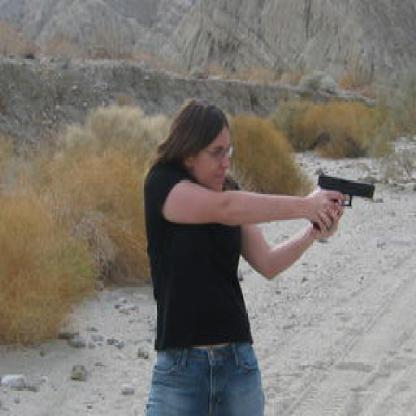gun: (309, 161, 376, 248)
